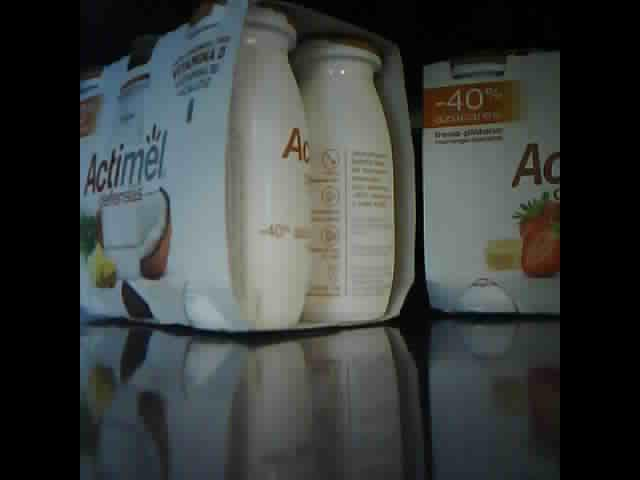actimel: (81, 1, 418, 337), (423, 51, 560, 316)
